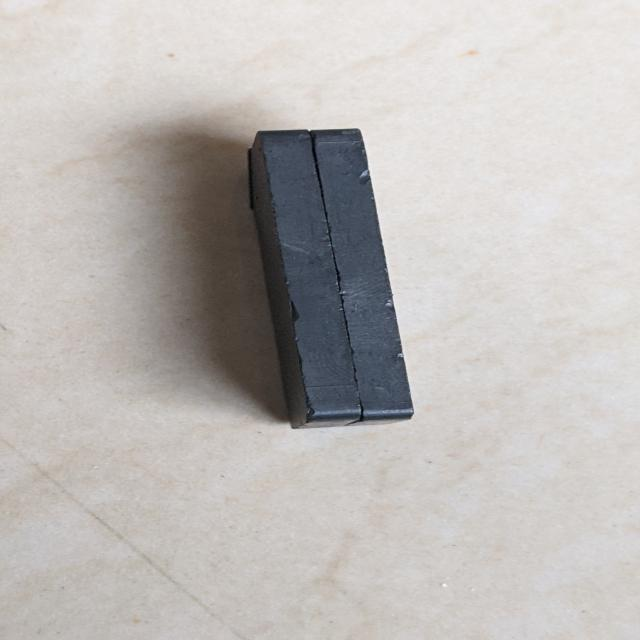Magnet: (224, 106, 457, 436)
